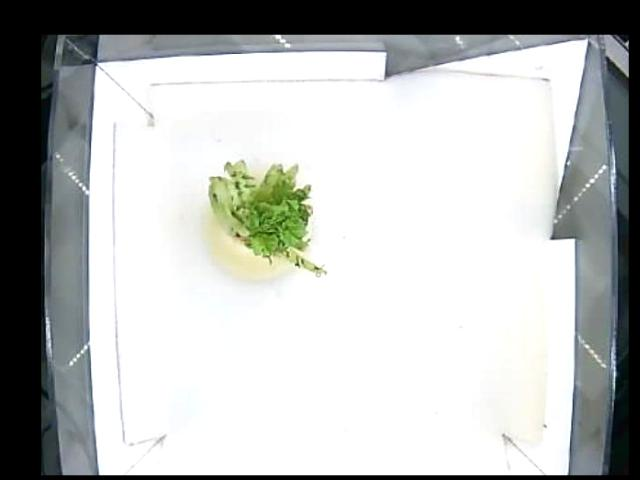Mooli: (208, 158, 328, 283)
